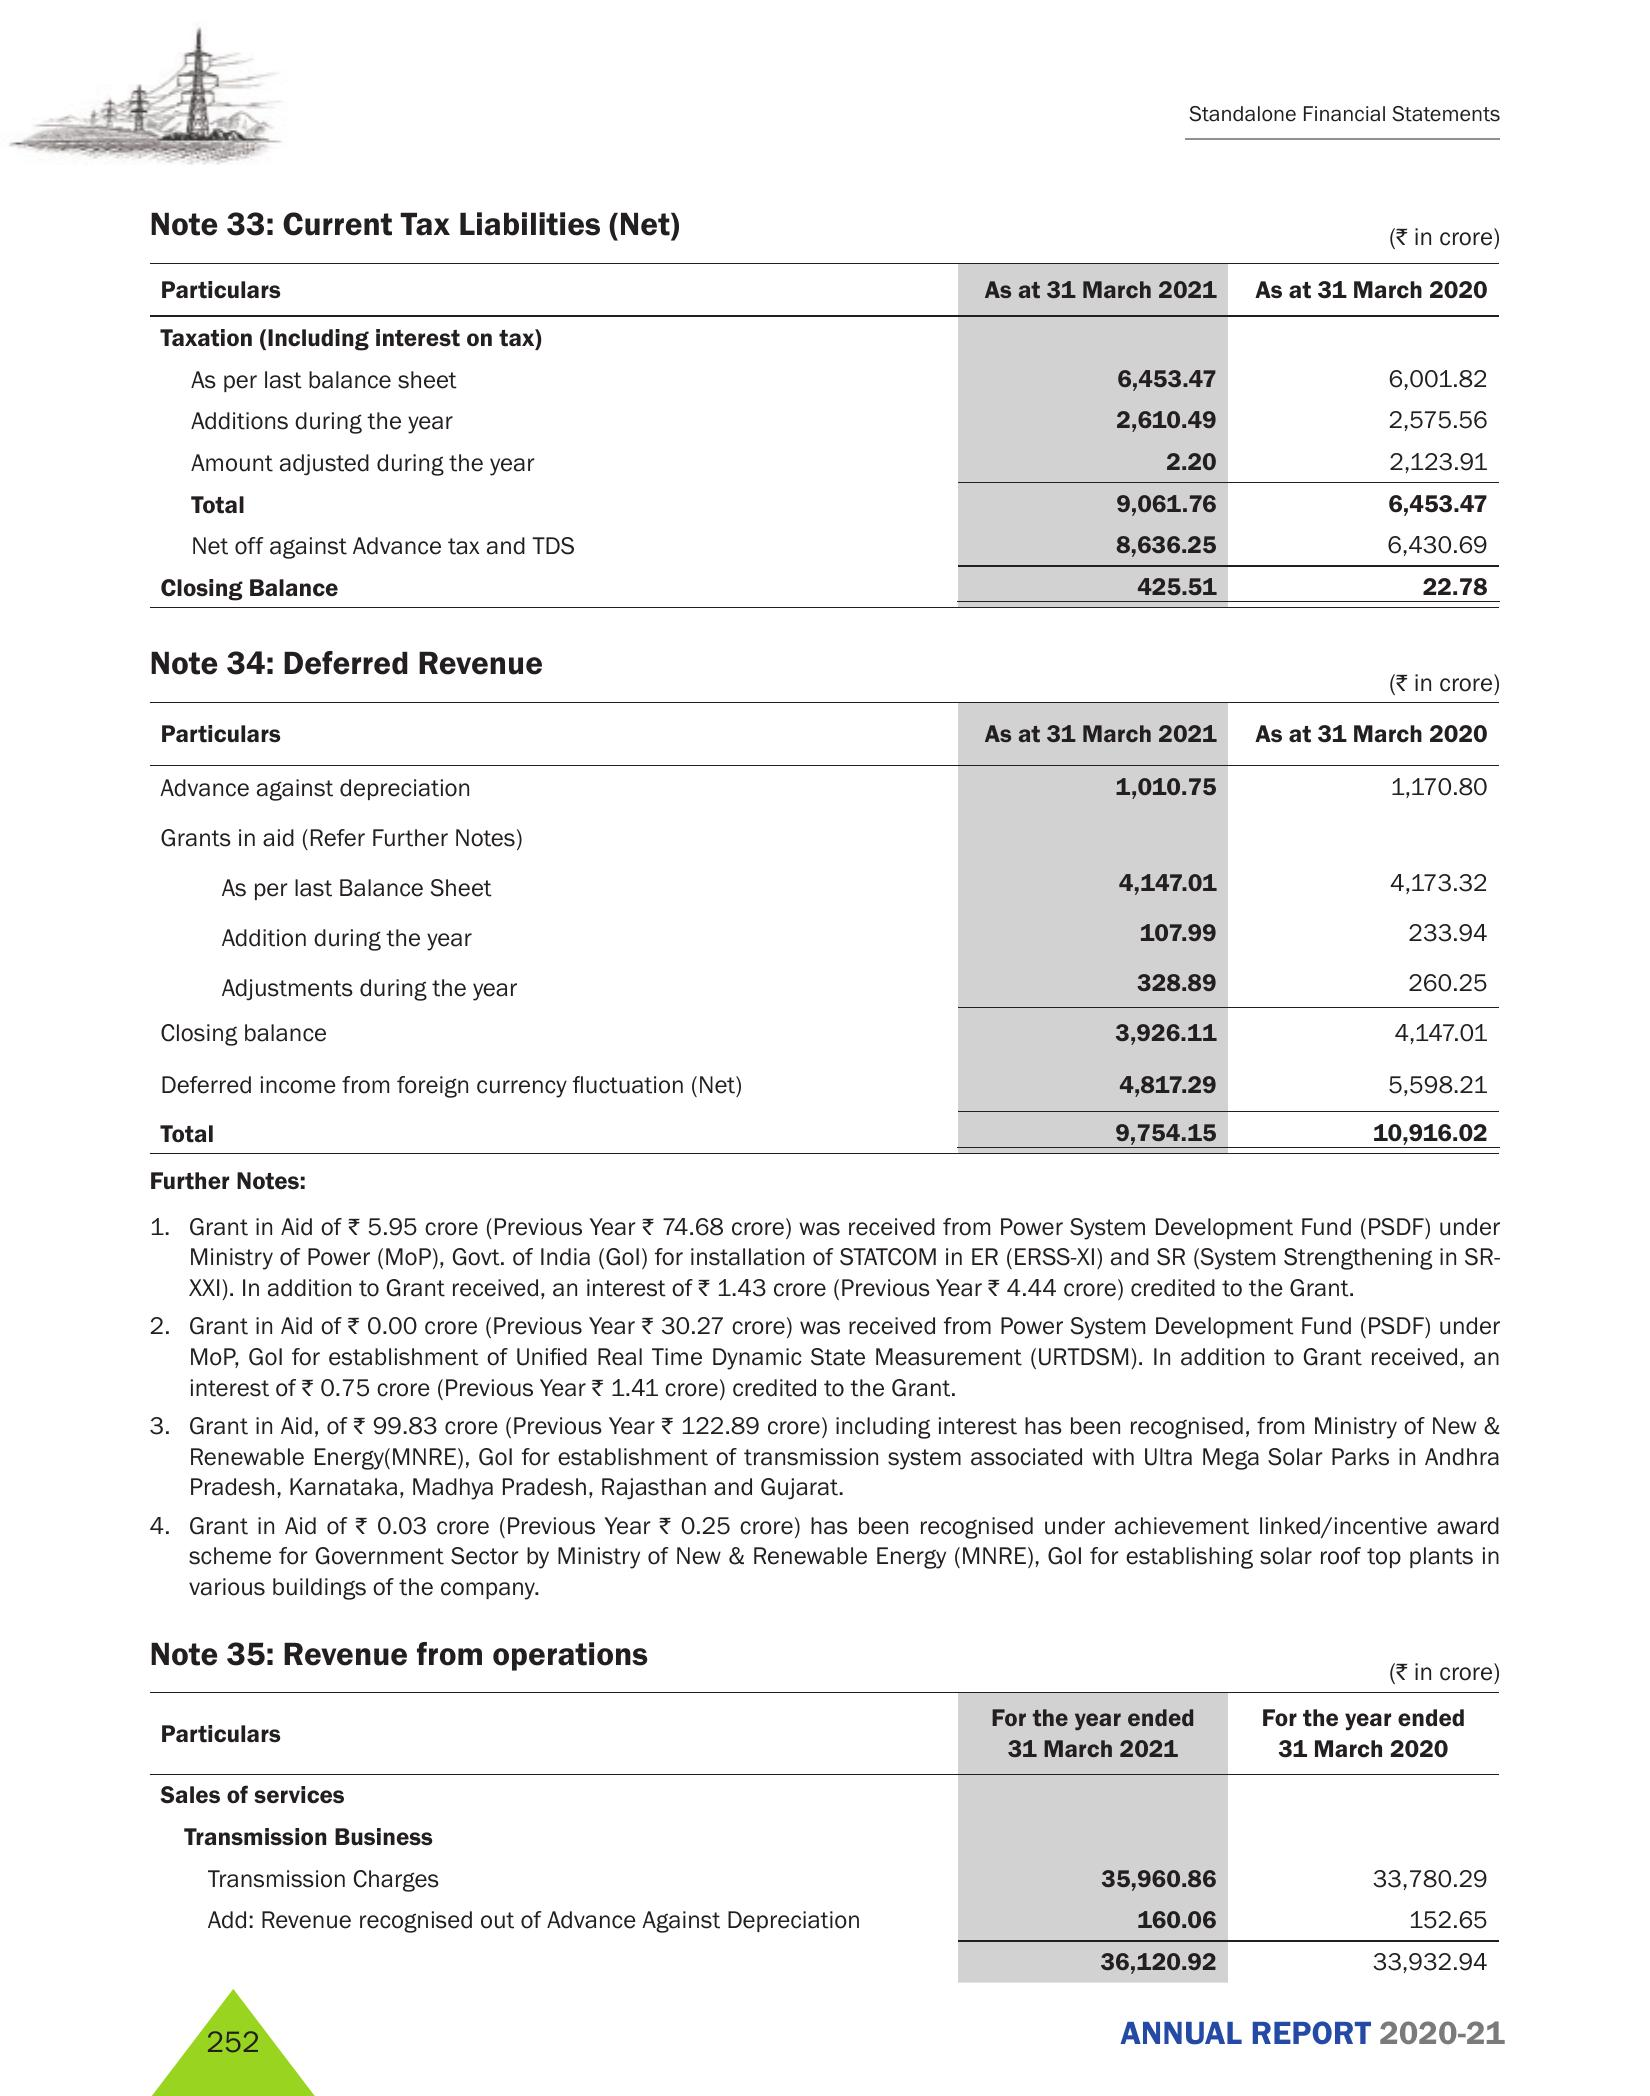Footer: (0, 1985, 1650, 2096)
Header: (0, 0, 1650, 175)
Table: (99, 696, 1507, 1160), (99, 257, 1507, 609), (114, 1683, 1507, 1982)
